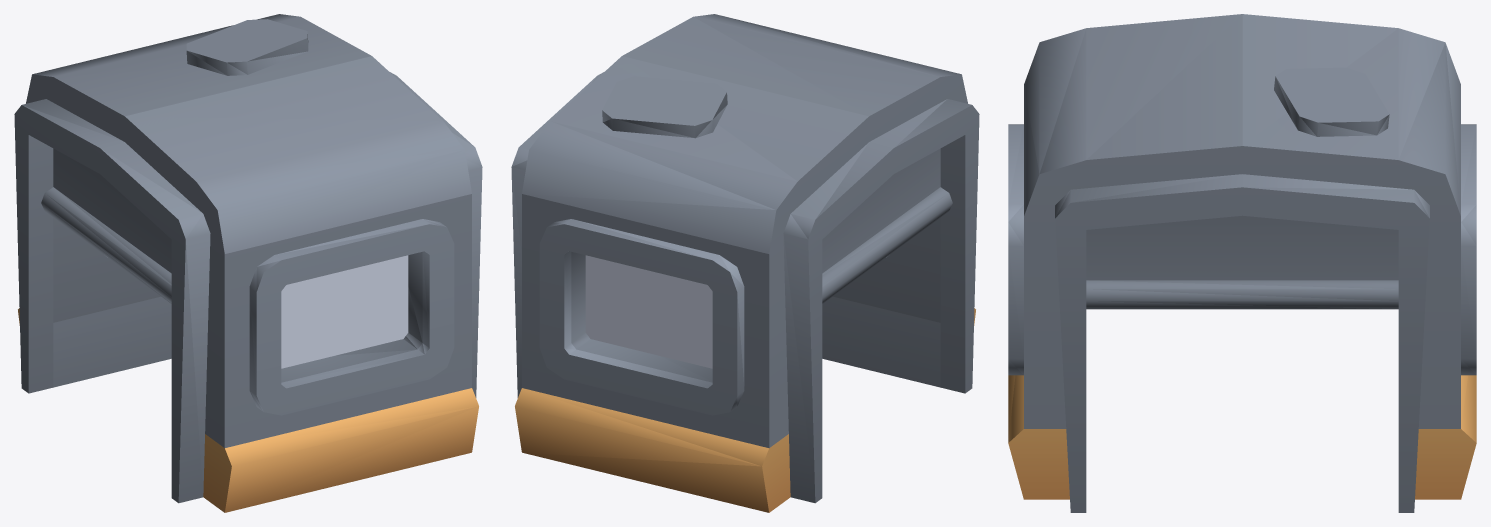
Rendered from factory_machine_window.fbx.
3 renders of one model, left to right at view 1: azimuth 30°, elevation 25°; view 2: azimuth 150°, elevation 25°; view 3: azimuth 270°, elevation 25°, orthographic. The views are drawn at different scales.
Visible parts, largest first — view 1: factory_machine_window_LOD0; view 2: factory_machine_window_LOD0; view 3: factory_machine_window_LOD0.
Part boxes in pixels (x1,y1,x2,y2): factory_machine_window_LOD0: (14,14,482,512); factory_machine_window_LOD0: (511,14,979,512); factory_machine_window_LOD0: (1008,14,1476,512).
Size of what is drawn, in the model's own units: 2 by 2.15 by 2.5.
